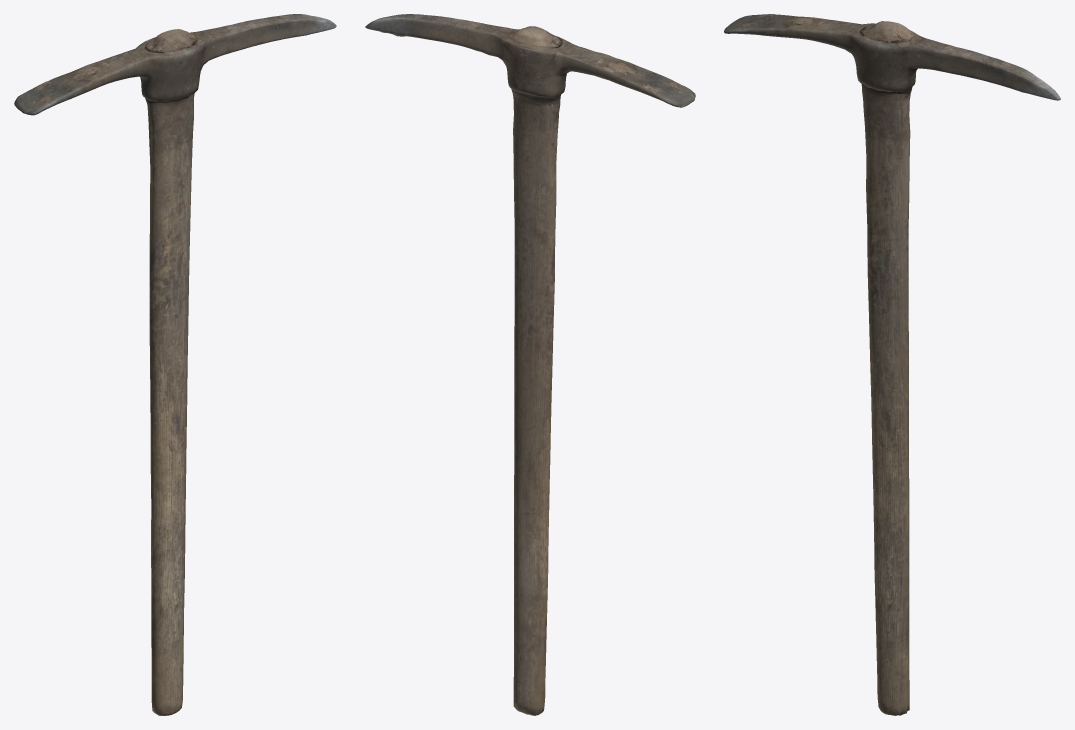
Rendered from picke_dirty_01.glb.
The picture shows the model from 3 angles, left to right: view 1: azimuth 30°, elevation 25°; view 2: azimuth 150°, elevation 25°; view 3: azimuth 330°, elevation 25°; orthographic projection.
Parts seen in each view (by area): view 1: picke_dirty_01; view 2: picke_dirty_01; view 3: picke_dirty_01.
Boxes of the visible parts, x1,y1,x2,y2 form: picke_dirty_01: (14, 14, 336, 715); picke_dirty_01: (365, 14, 695, 715); picke_dirty_01: (724, 14, 1060, 715).
Size of the model in its own units: 0.5498 by 1.12 by 0.069.
1 material, 1 textured.
